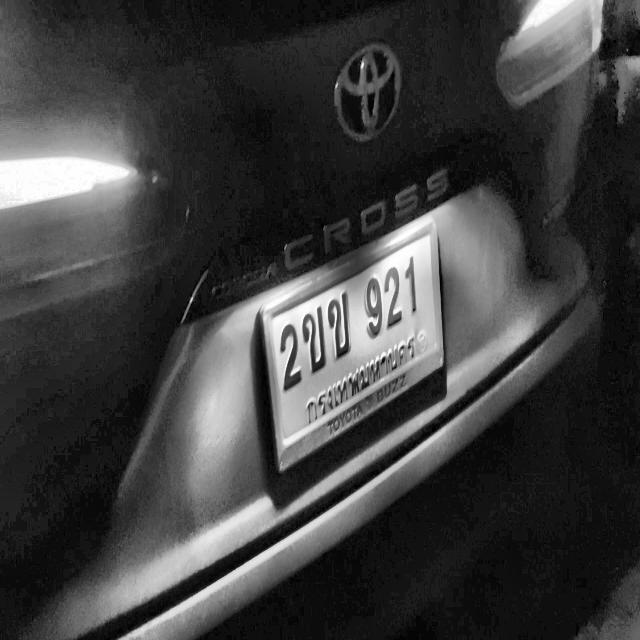license-plate: (256, 216, 446, 480)
